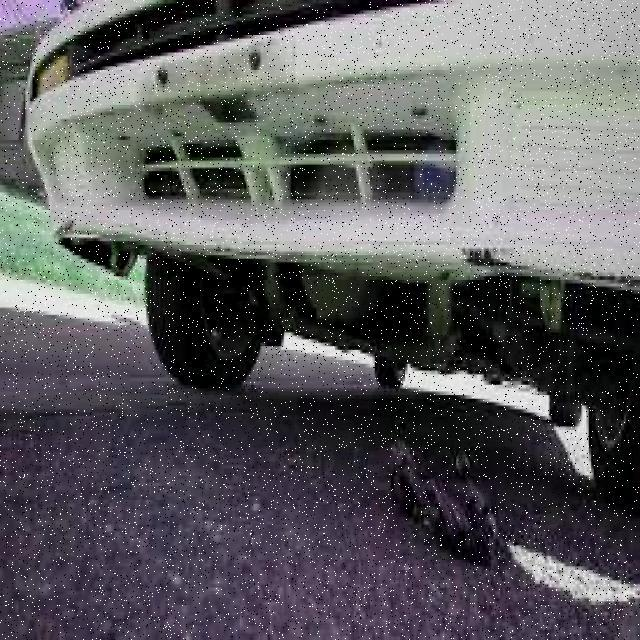car damage: (139, 32, 300, 128), (461, 226, 640, 297)
